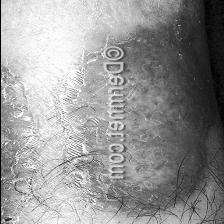Unclassified: (0, 44, 100, 224), (124, 24, 216, 210)
